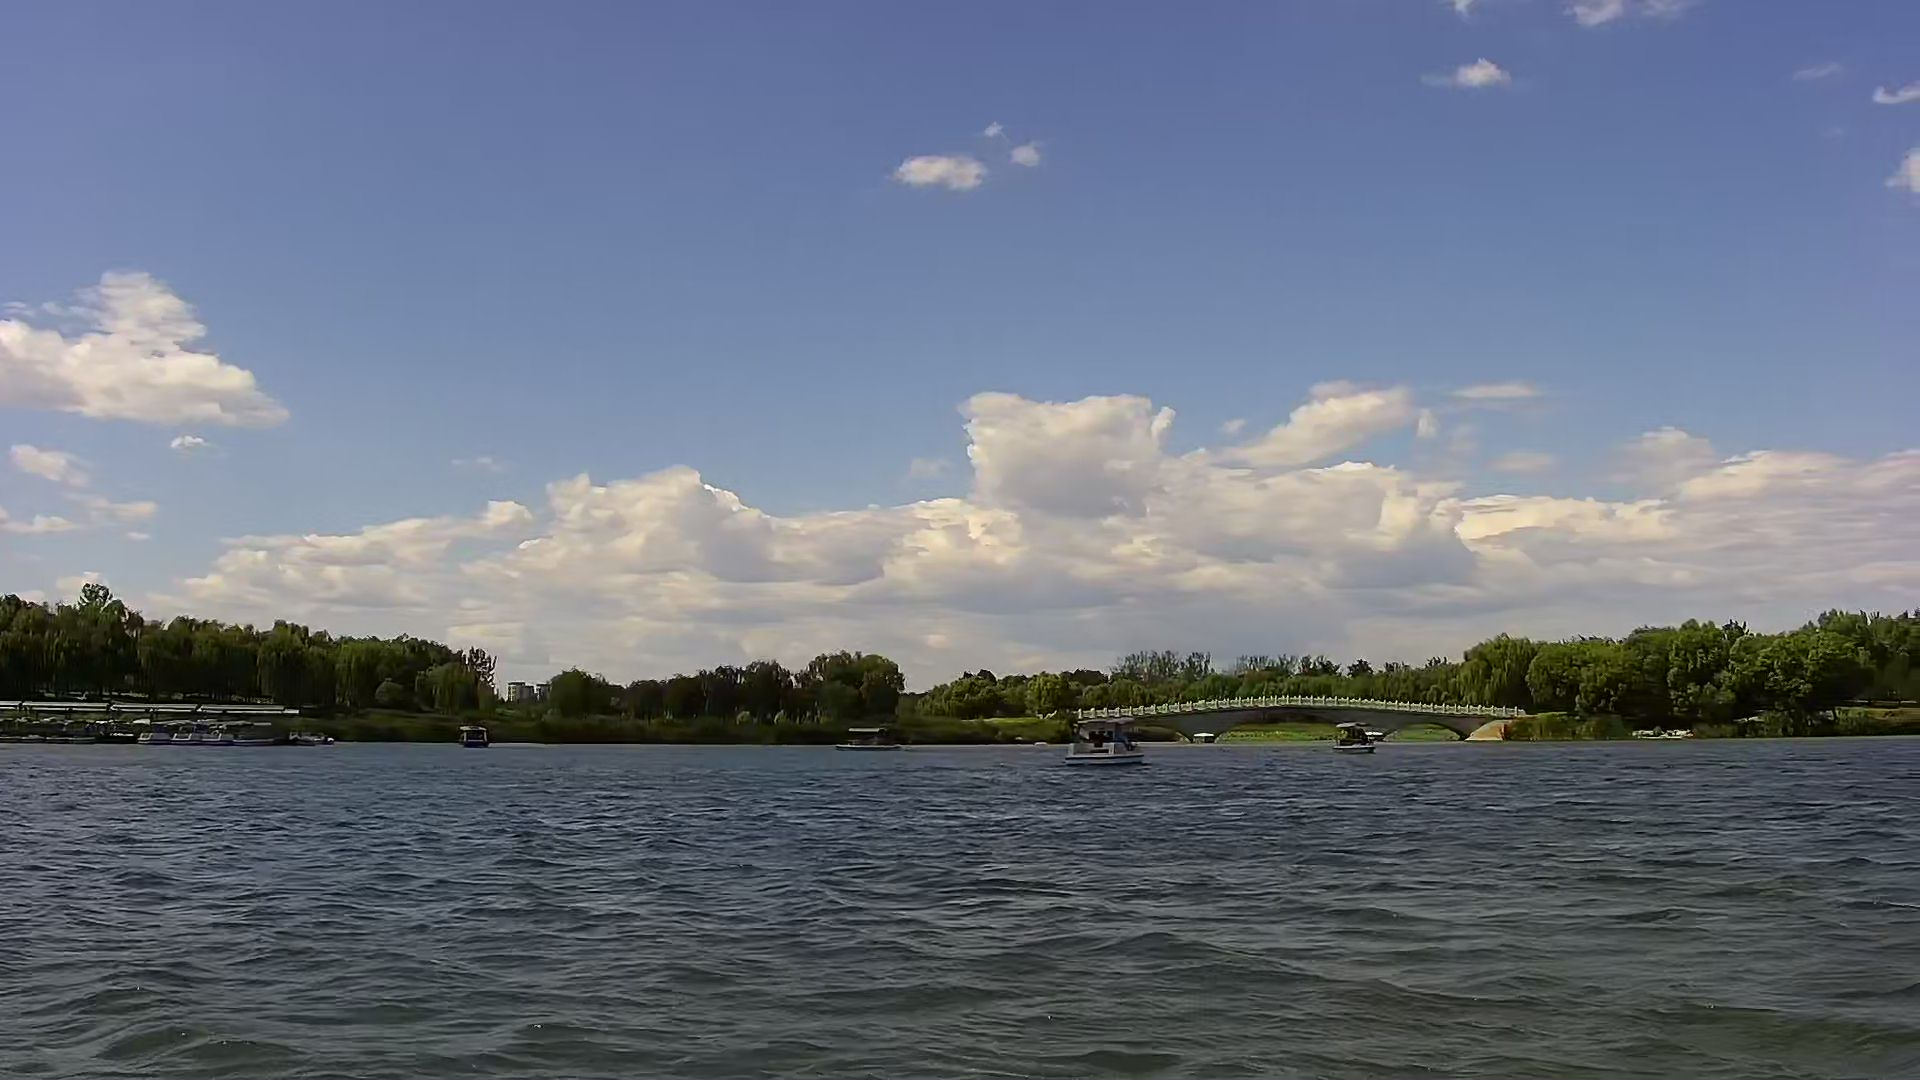boat: (1051, 705, 1153, 775), (1319, 716, 1404, 775), (822, 716, 915, 756), (448, 717, 498, 758)
bridge: (1069, 688, 1542, 754)
